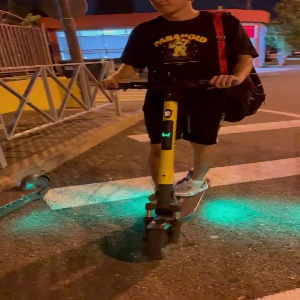human on a scooter: (98, 1, 267, 261)
